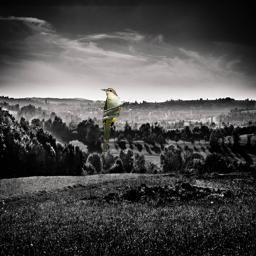Cuckoo: (101, 88, 122, 152)
